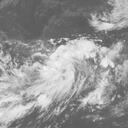cyclone: (32, 46, 85, 101)
